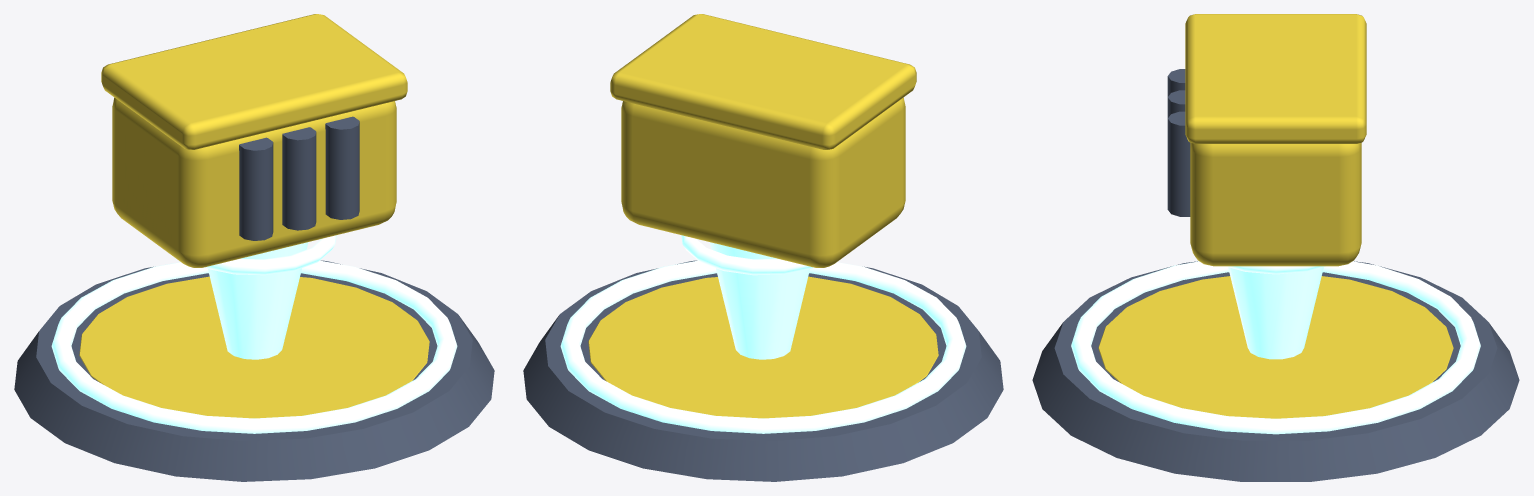
File: hero-shooter-harbour-payload-pickup-ammo-crate-2eac260e__27680.glb
The picture shows the model from 3 angles, left to right: view 1: azimuth 30°, elevation 25°; view 2: azimuth 150°, elevation 25°; view 3: azimuth 270°, elevation 25°; orthographic projection.
Parts seen in each view (by area): view 1: pickup-ammo-crate, item/sun, item/ink; view 2: pickup-ammo-crate, item/sun; view 3: pickup-ammo-crate, item/sun, item/ink.
Boxes of the visible parts, x1=… form: pickup-ammo-crate: x1=14, y1=235, x2=494, y2=481; item/sun: x1=101, y1=14, x2=407, y2=267; item/ink: x1=239, y1=116, x2=359, y2=240; pickup-ammo-crate: x1=523, y1=235, x2=1003, y2=481; item/sun: x1=610, y1=14, x2=916, y2=267; pickup-ammo-crate: x1=1032, y1=261, x2=1519, y2=481; item/sun: x1=1185, y1=14, x2=1366, y2=266; item/ink: x1=1167, y1=69, x2=1190, y2=216.
Bounding box in the file's own units: 0.9582 × 0.69 × 0.968.
